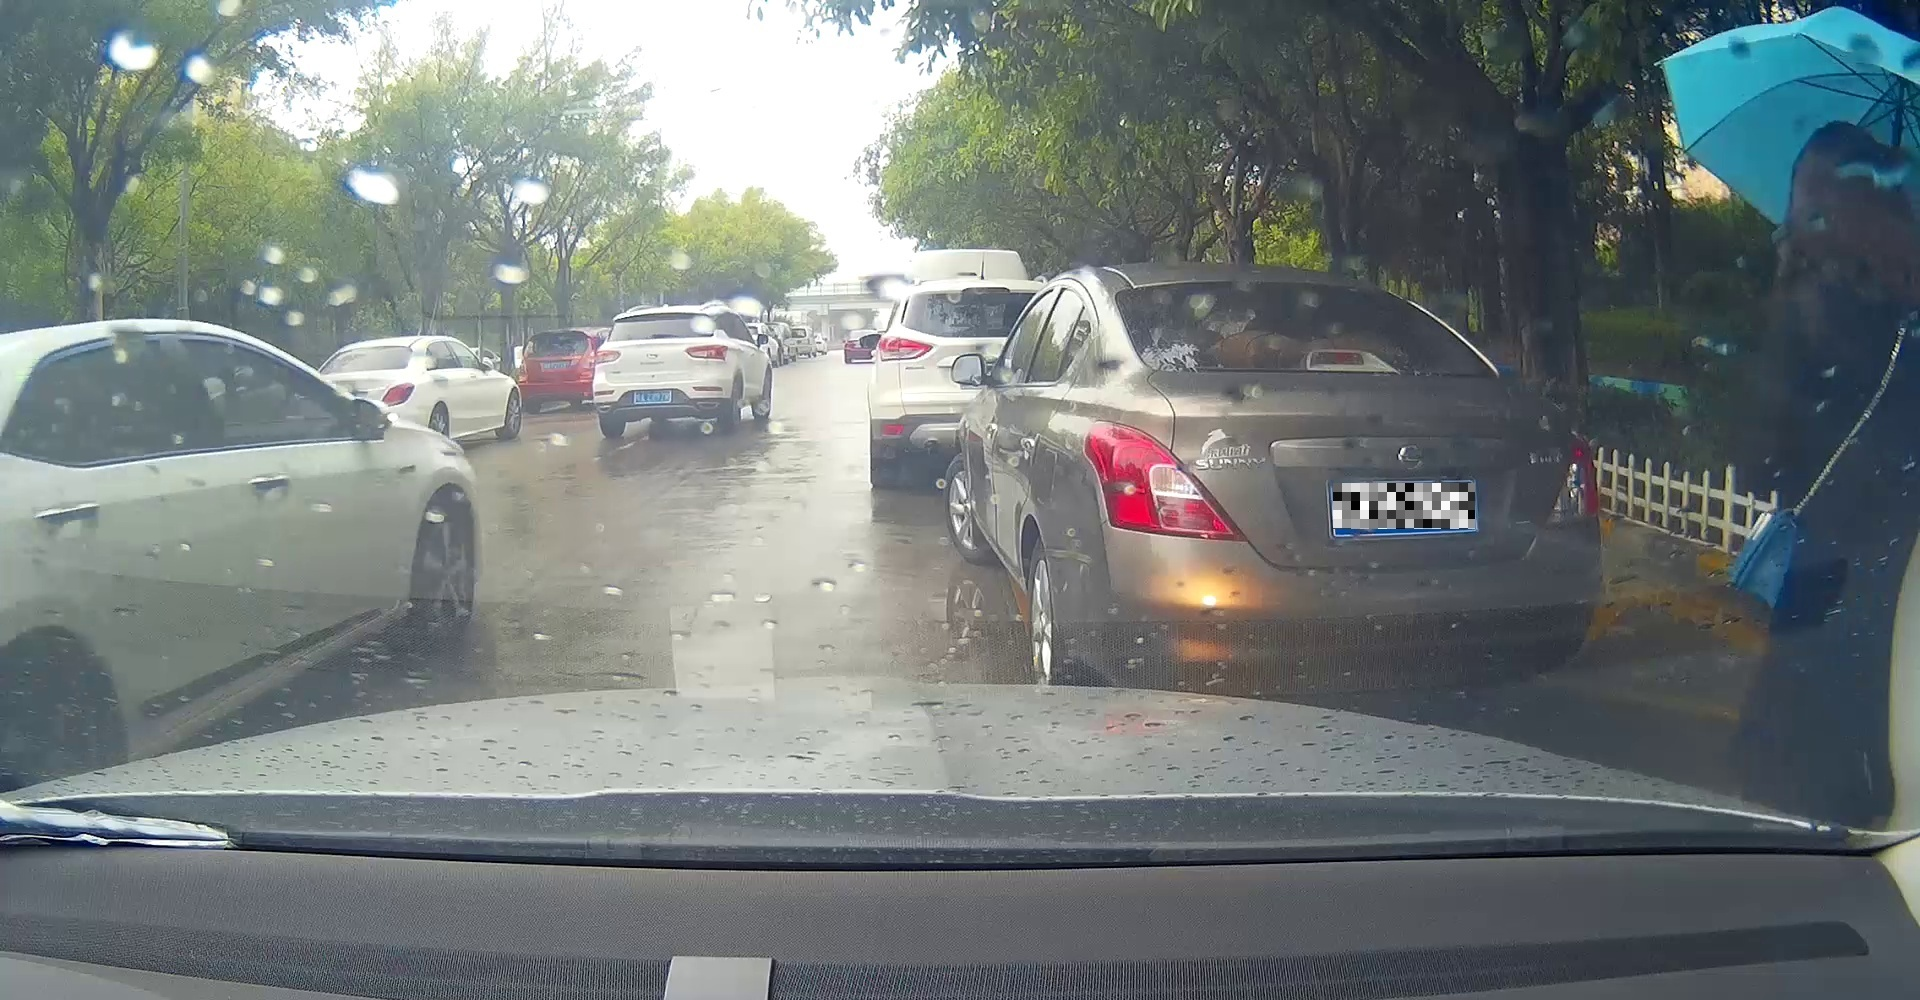L_light: (1082, 418, 1246, 541), (593, 349, 621, 365)
R_light: (1540, 431, 1599, 524), (684, 343, 728, 360)
T_light: (1305, 352, 1366, 367), (650, 313, 672, 317)
day-no: (1076, 268, 1601, 697), (593, 307, 733, 438)
plate_1: (1333, 484, 1476, 529)
